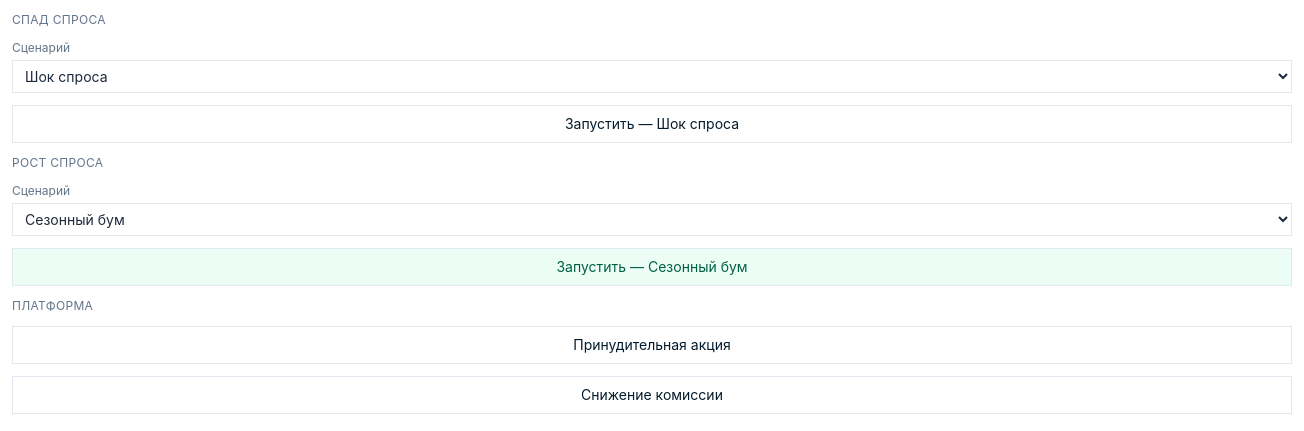
Test: ShocksControlPanel › updates_crash_button_label_when_scenario_changes
Expected: the button with test id "trigger-crash-btn" reads "Запустить — Шок спроса", [12,105,1292,143]
Select "Слабый спад" in the dropdown with test id "crash-scenario-select": x=652, y=76 [12,60,1292,93]
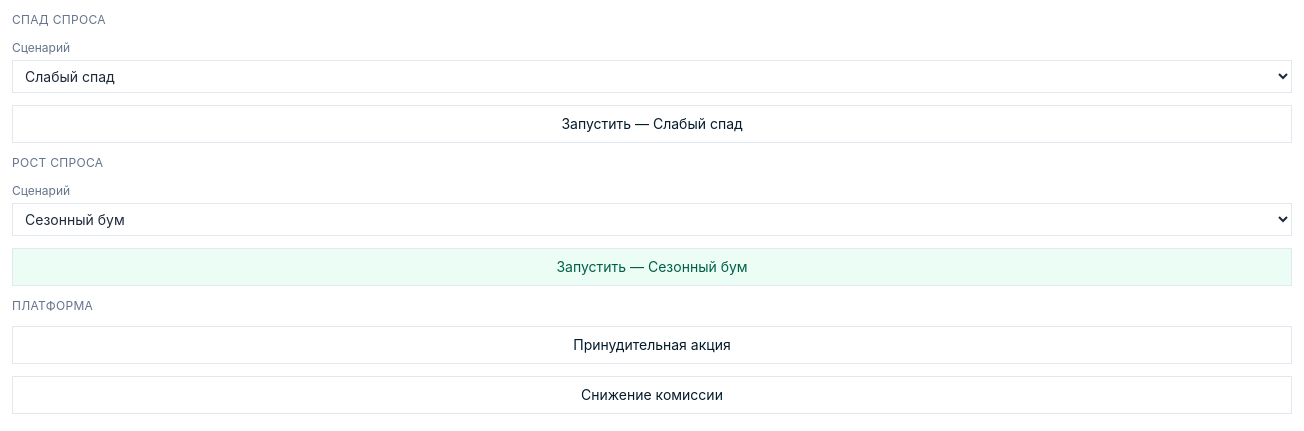
Result: the button with test id "trigger-crash-btn" reads "Запустить — Слабый спад" at [12,105,1292,143]
Select "Рецессия" in the dropdown with test id "crash-scenario-select": x=652, y=76 [12,60,1292,93]
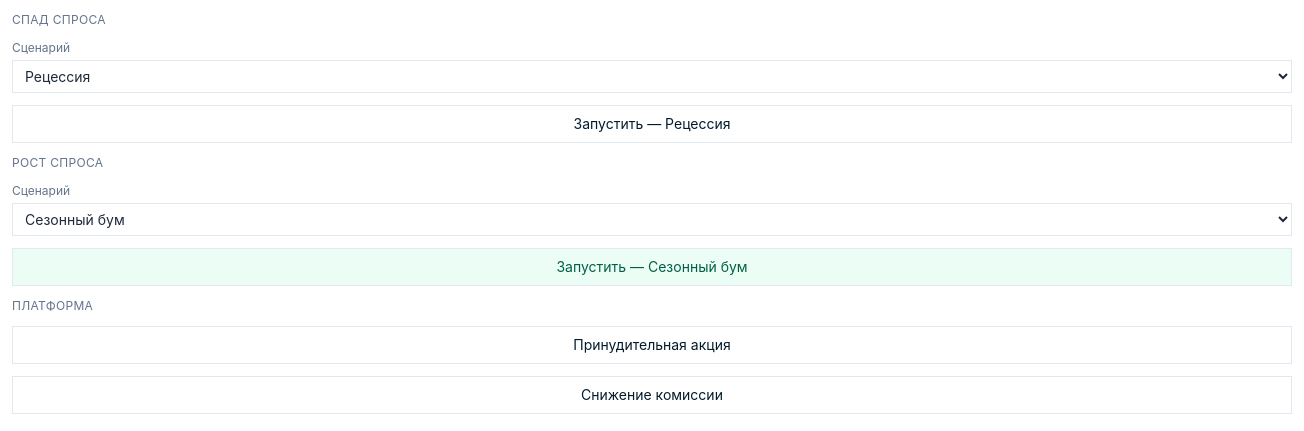
Result: the button with test id "trigger-crash-btn" reads "Запустить — Рецессия" at [12,105,1292,143]
